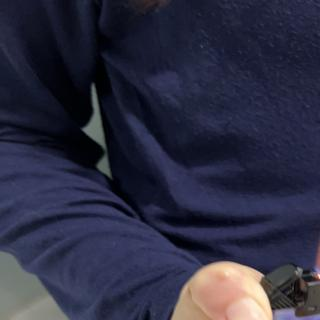fire: (312, 219, 320, 277)
